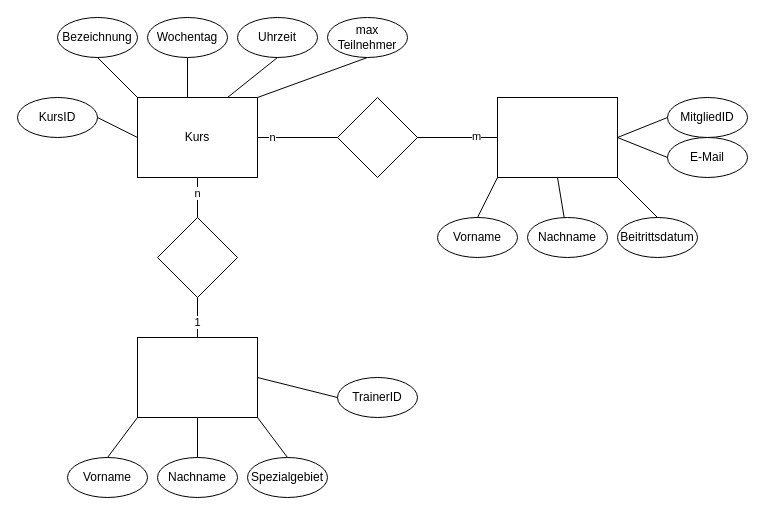
Some shapes in this 765 by 515 pixel diagram are drawn without their labels. The box of each missing label's shape, as (x1, y1, x2, y2) in pixels:
besucht: (336, 96, 418, 178)
leitet: (156, 216, 238, 298)
Mitglied: (496, 96, 618, 178)
Trainer: (136, 336, 258, 418)
